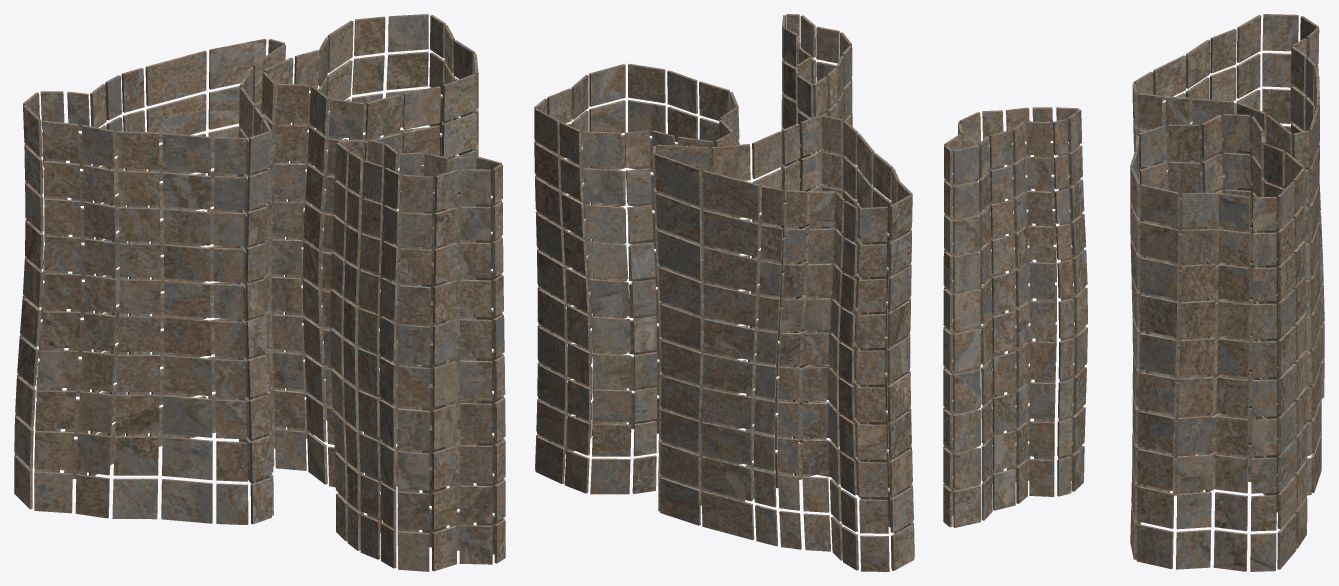
3 views of the same model, side by side, from view 1: azimuth 30°, elevation 25°; view 2: azimuth 150°, elevation 25°; view 3: azimuth 270°, elevation 25° (orthographic). The views are drawn at different scales.
Parts seen in each view (by area): view 1: B_Baked; view 2: B_Baked; view 3: B_Baked.
Boxes of the visible parts, left/top/right/bottom form: B_Baked: left=14, top=14, right=505, bottom=571; B_Baked: left=534, top=14, right=914, bottom=571; B_Baked: left=943, top=14, right=1324, bottom=571.
Size of the model in its own units: 605 by 560 by 515.
1 material, 1 textured.
